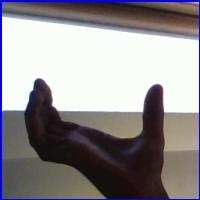space: (15, 70, 179, 193)
